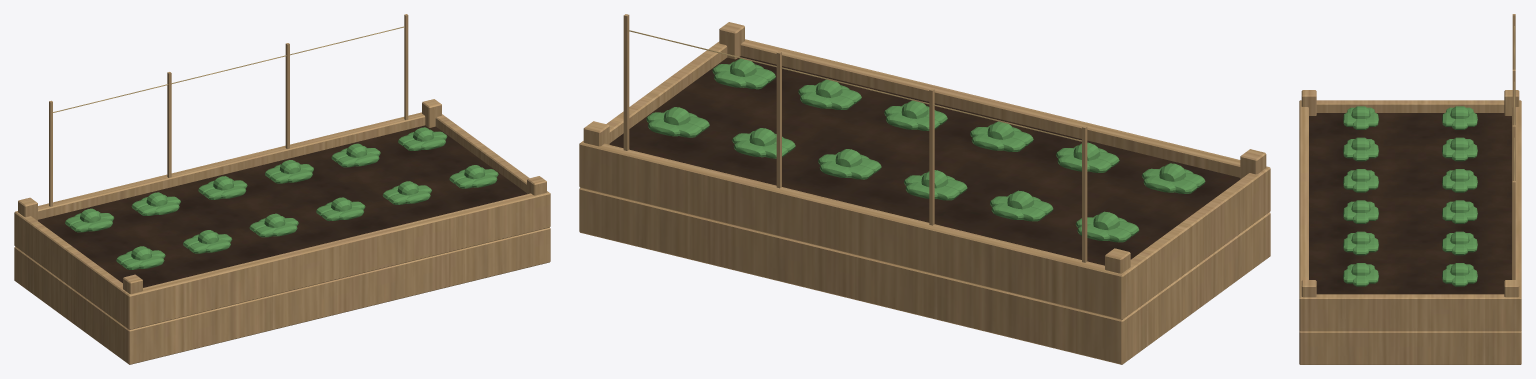
File: canteiro_horta.glb
The picture shows the model from 3 angles, left to right: view 1: azimuth 30°, elevation 25°; view 2: azimuth 150°, elevation 25°; view 3: azimuth 270°, elevation 25°; orthographic projection. The views are drawn at different scales.
Parts seen in each view (by area): view 1: canteiro_horta_madeira_crua, canteiro_horta_terra, canteiro_horta_folha_verde, canteiro_horta_corda; view 2: canteiro_horta_madeira_crua, canteiro_horta_terra, canteiro_horta_folha_verde, canteiro_horta_corda; view 3: canteiro_horta_terra, canteiro_horta_madeira_crua, canteiro_horta_folha_verde.
Boxes of the visible parts, left/top/right/bottom form: canteiro_horta_madeira_crua: left=14, top=14, right=550, bottom=364; canteiro_horta_terra: left=38, top=125, right=526, bottom=287; canteiro_horta_folha_verde: left=65, top=127, right=498, bottom=269; canteiro_horta_corda: left=53, top=26, right=404, bottom=112; canteiro_horta_madeira_crua: left=579, top=14, right=1270, bottom=364; canteiro_horta_terra: left=609, top=56, right=1240, bottom=265; canteiro_horta_folha_verde: left=646, top=58, right=1205, bottom=242; canteiro_horta_corda: left=628, top=30, right=1081, bottom=141; canteiro_horta_terra: left=1309, top=113, right=1511, bottom=294; canteiro_horta_madeira_crua: left=1299, top=14, right=1521, bottom=364; canteiro_horta_folha_verde: left=1343, top=106, right=1477, bottom=286.
Bounding box in the file's own units: 1.9 × 0.75 × 0.9.
Materials: 4 (3 with a texture image).
